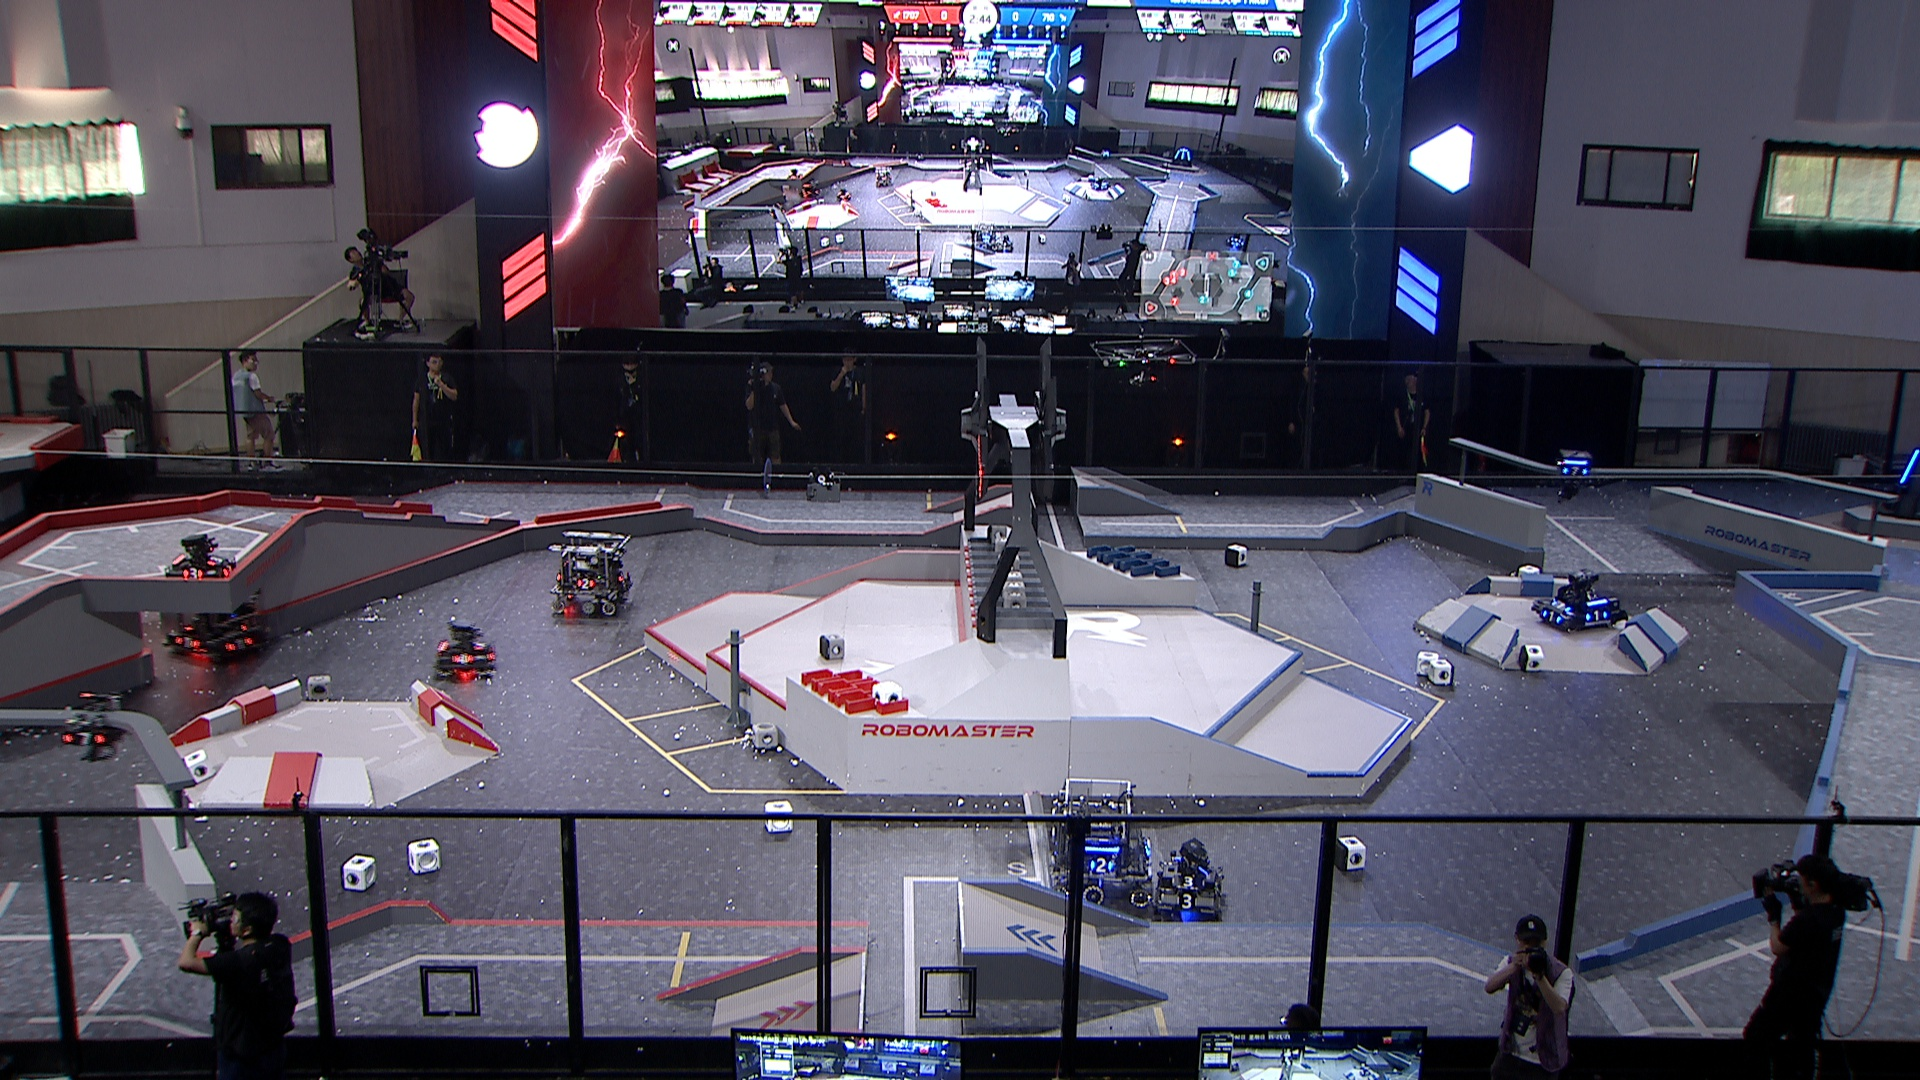armor: (1898, 448, 1920, 487), (63, 731, 107, 749), (225, 636, 255, 655), (1091, 855, 1116, 876), (1172, 874, 1207, 889), (1174, 893, 1199, 910), (174, 636, 200, 650), (448, 651, 475, 665), (182, 567, 204, 582), (1585, 608, 1607, 622), (1549, 599, 1572, 613), (1543, 609, 1565, 624), (1564, 465, 1589, 477), (578, 576, 596, 591), (206, 555, 225, 566), (222, 564, 237, 576), (471, 640, 487, 651)
base: (1878, 440, 1920, 524)
car: (1048, 777, 1155, 910), (160, 582, 262, 662), (550, 531, 636, 618), (1154, 831, 1228, 920), (1531, 570, 1627, 633), (162, 531, 240, 589), (436, 621, 496, 683)
ignore: (971, 223, 996, 255), (798, 177, 822, 200), (992, 228, 1011, 255), (1168, 148, 1193, 167), (1224, 232, 1247, 251), (874, 166, 894, 187), (769, 200, 789, 222), (1091, 177, 1112, 193), (835, 189, 852, 200), (1100, 150, 1114, 162)
watcher: (62, 692, 125, 764), (1553, 448, 1594, 501)
